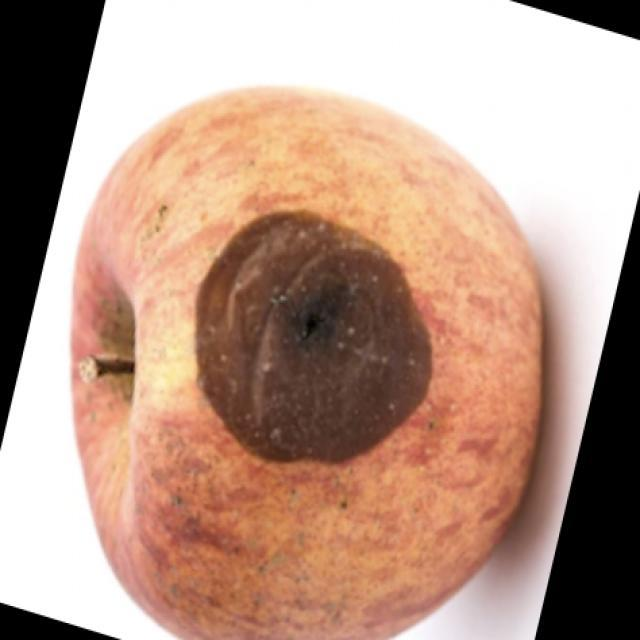Rotten: (102, 94, 563, 634)
